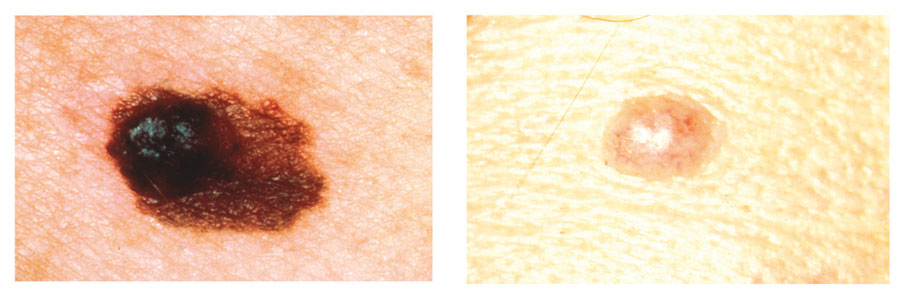Melanoma: (82, 59, 341, 254), (596, 85, 721, 195)
